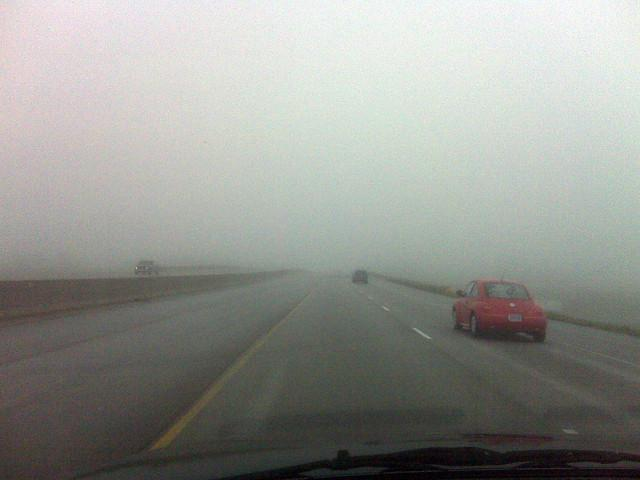car: (450, 279, 549, 343), (133, 258, 160, 276), (351, 269, 369, 284)
